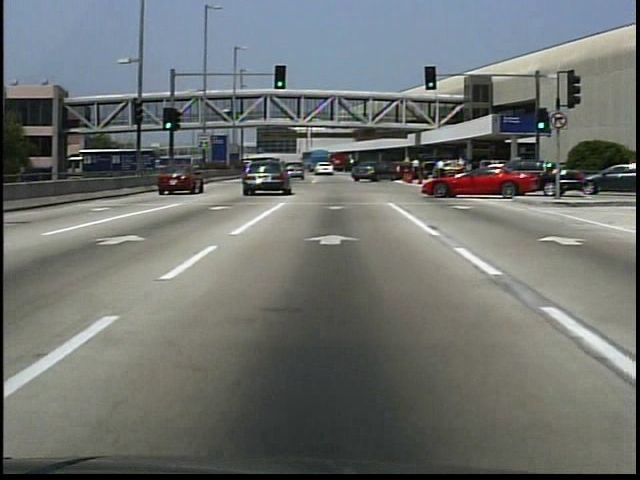person: (410, 158, 423, 185), (435, 157, 446, 179), (227, 108, 234, 123)
